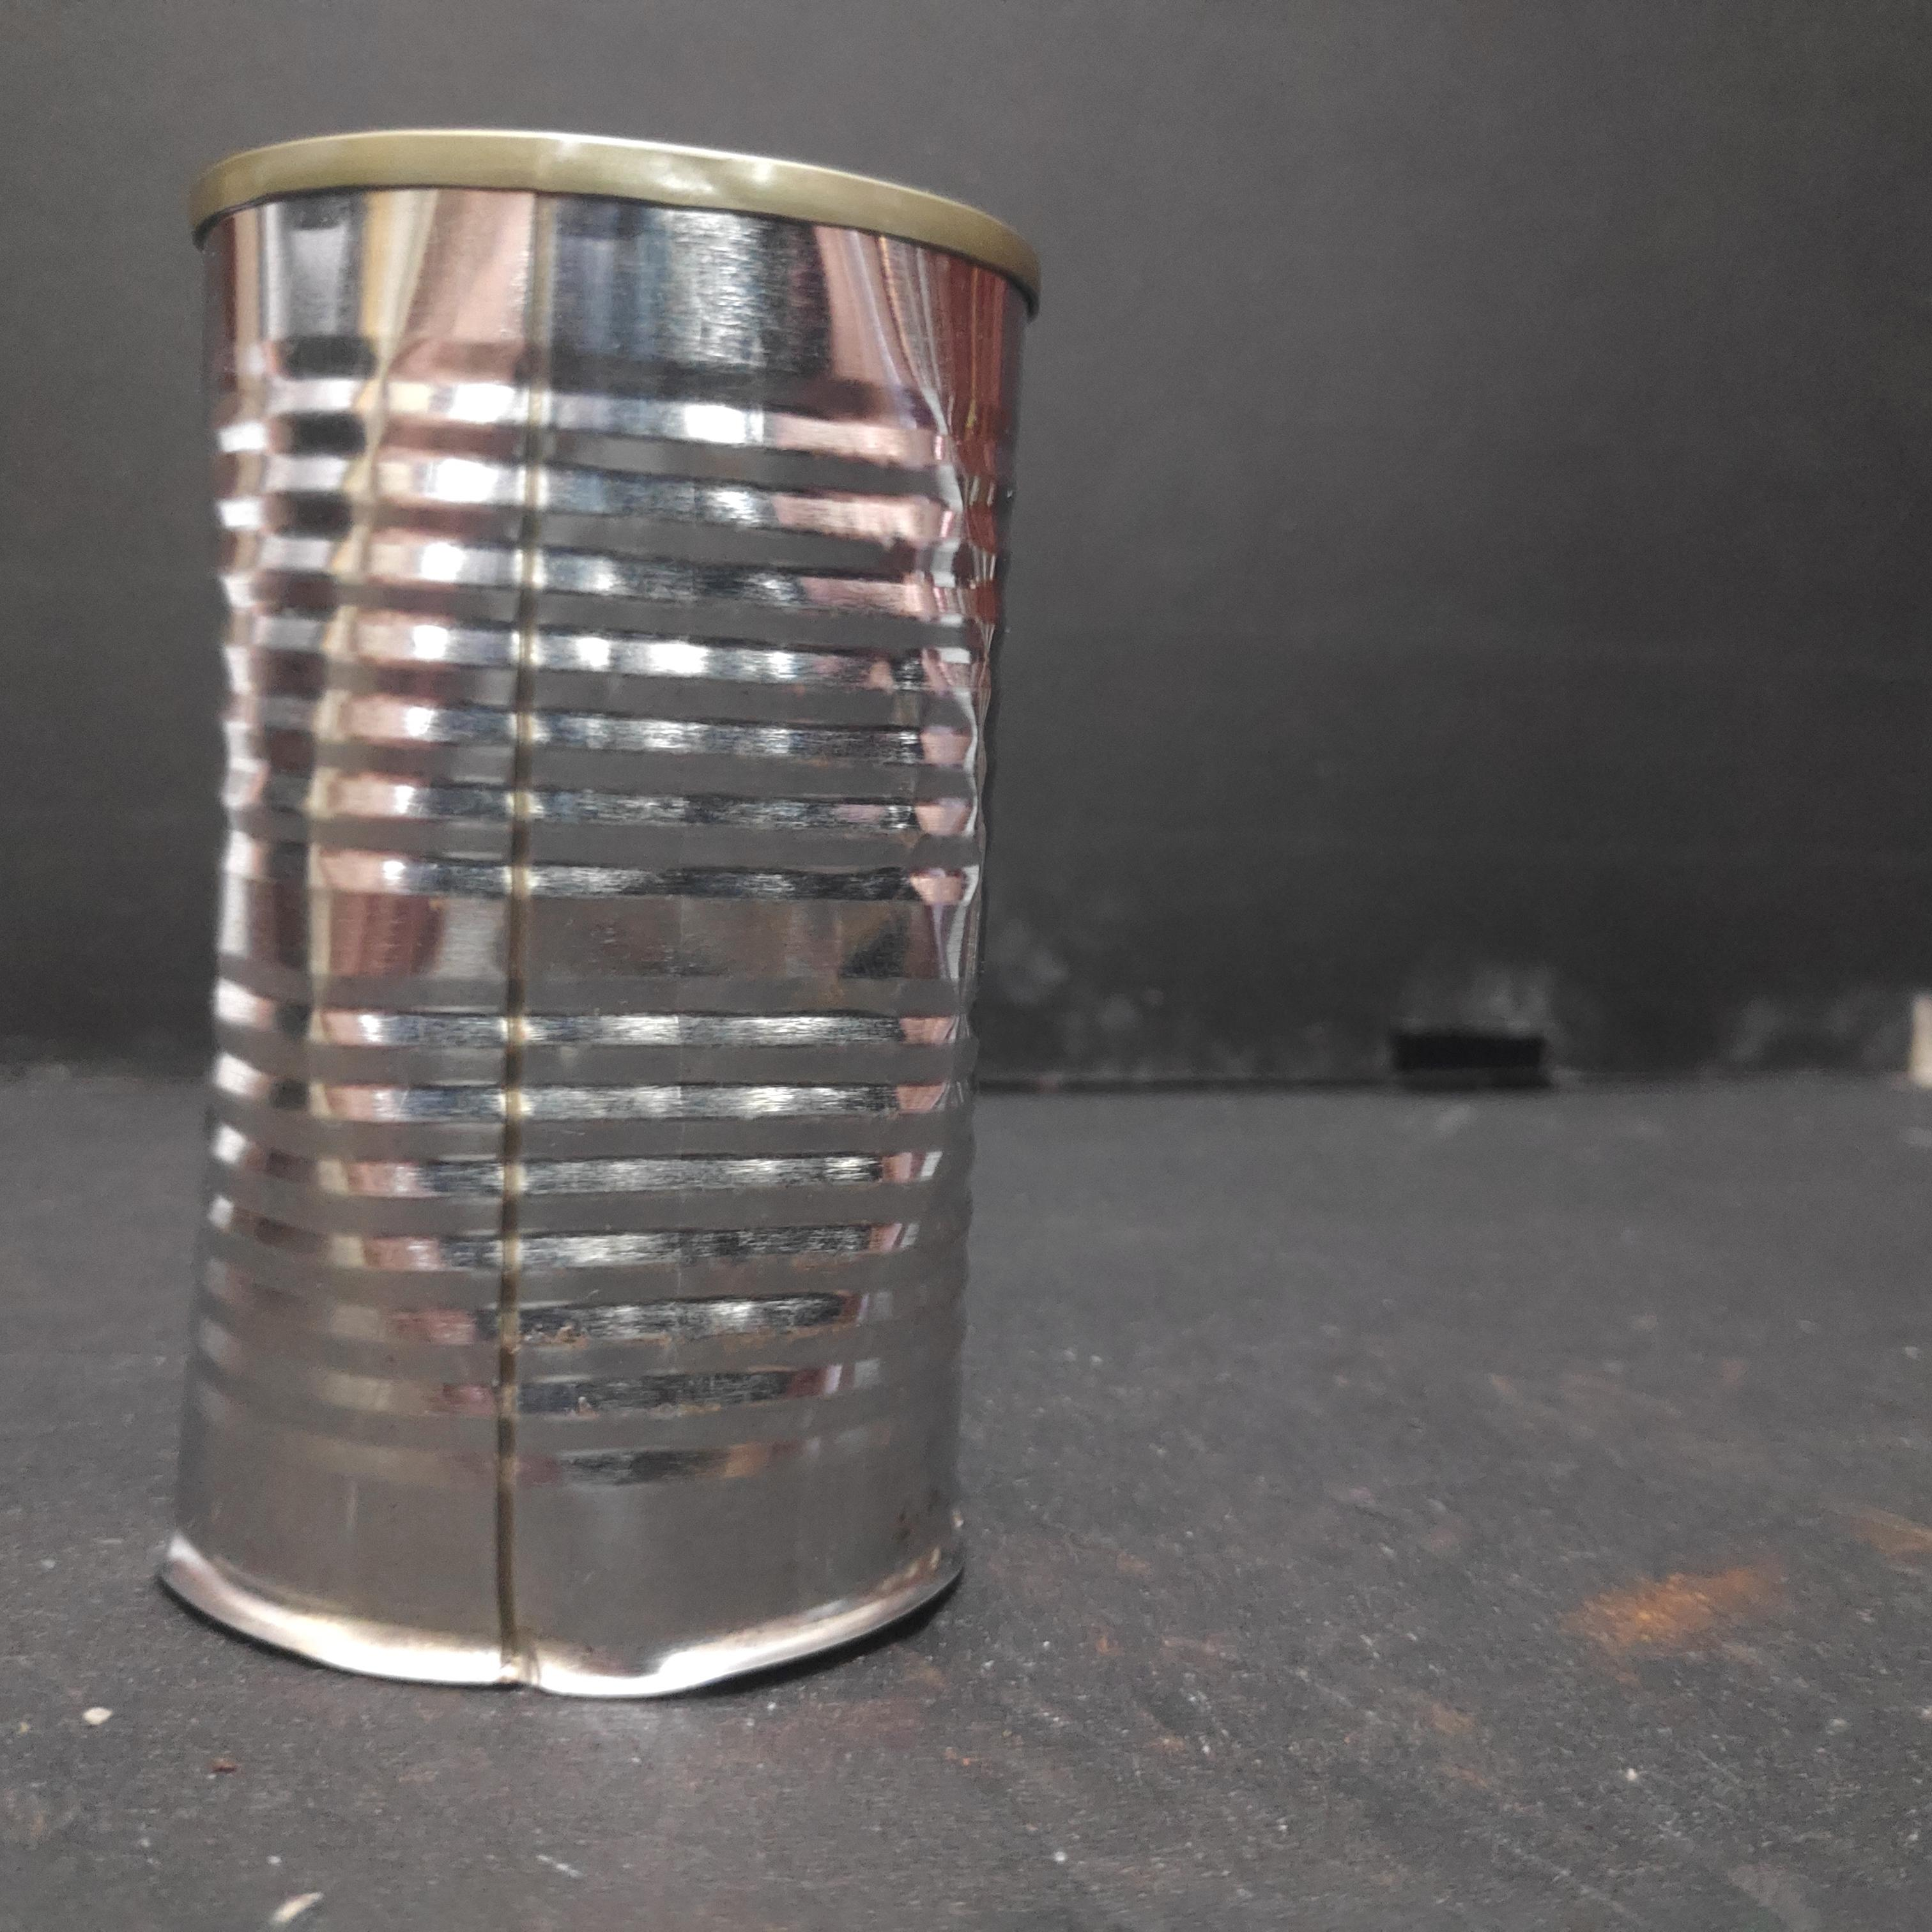Minor Defect: (171, 119, 1054, 1698)
